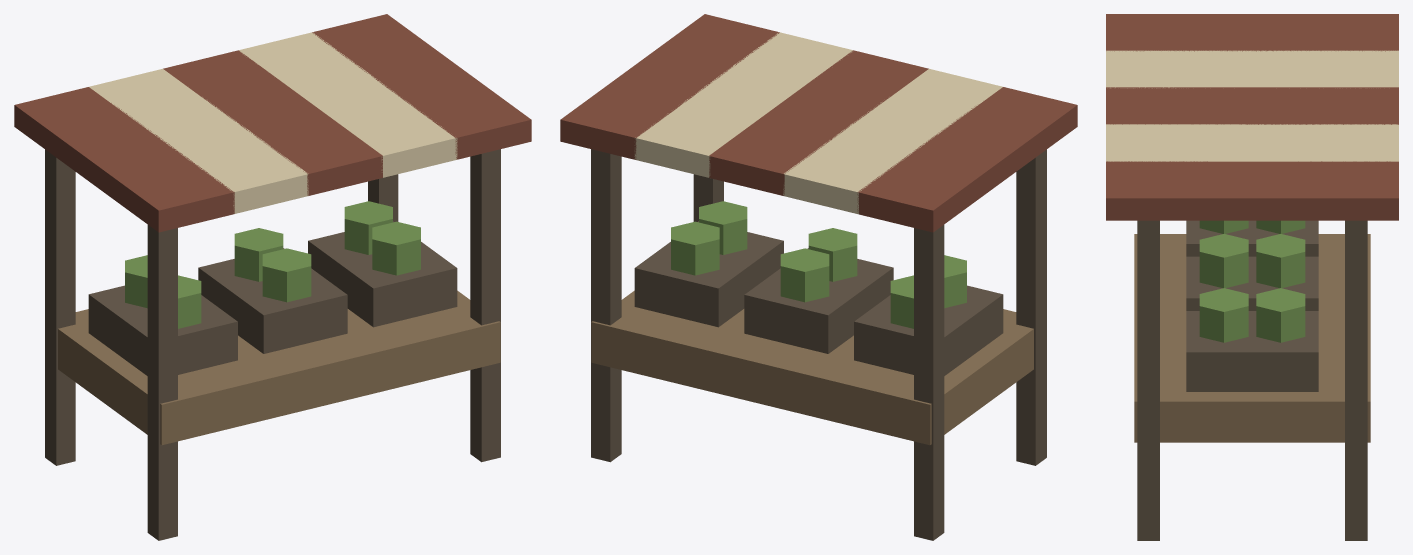
The model's file is Town_MarketStall.fbx.
The picture shows the model from 3 angles, left to right: view 1: azimuth 30°, elevation 25°; view 2: azimuth 150°, elevation 25°; view 3: azimuth 270°, elevation 25°; orthographic projection.
Parts seen in each view (by area): view 1: Town_MarketStall; view 2: Town_MarketStall; view 3: Town_MarketStall.
Boxes of the visible parts, box(x1,y1,x2,y2) form: Town_MarketStall: box(14, 14, 531, 540); Town_MarketStall: box(560, 14, 1077, 540); Town_MarketStall: box(1106, 14, 1398, 540).
Bounding box in the file's own units: 2.31 × 2.05 × 1.55.
